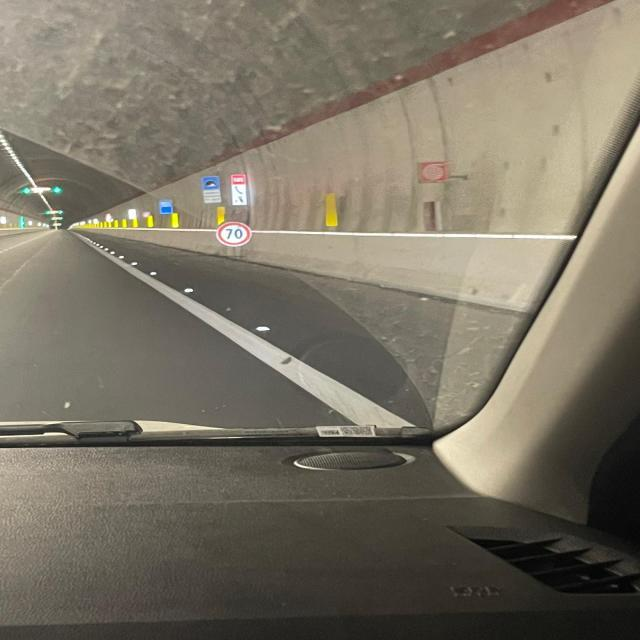forb_speed_over_70: (216, 221, 253, 247)
